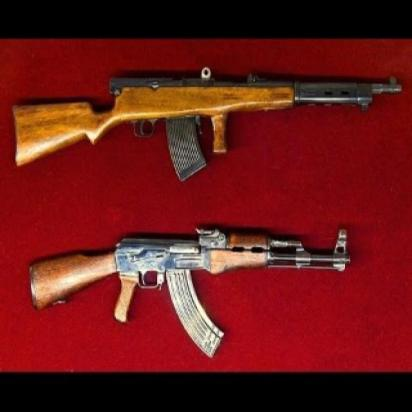Gun: (4, 67, 405, 181), (30, 224, 352, 359)
